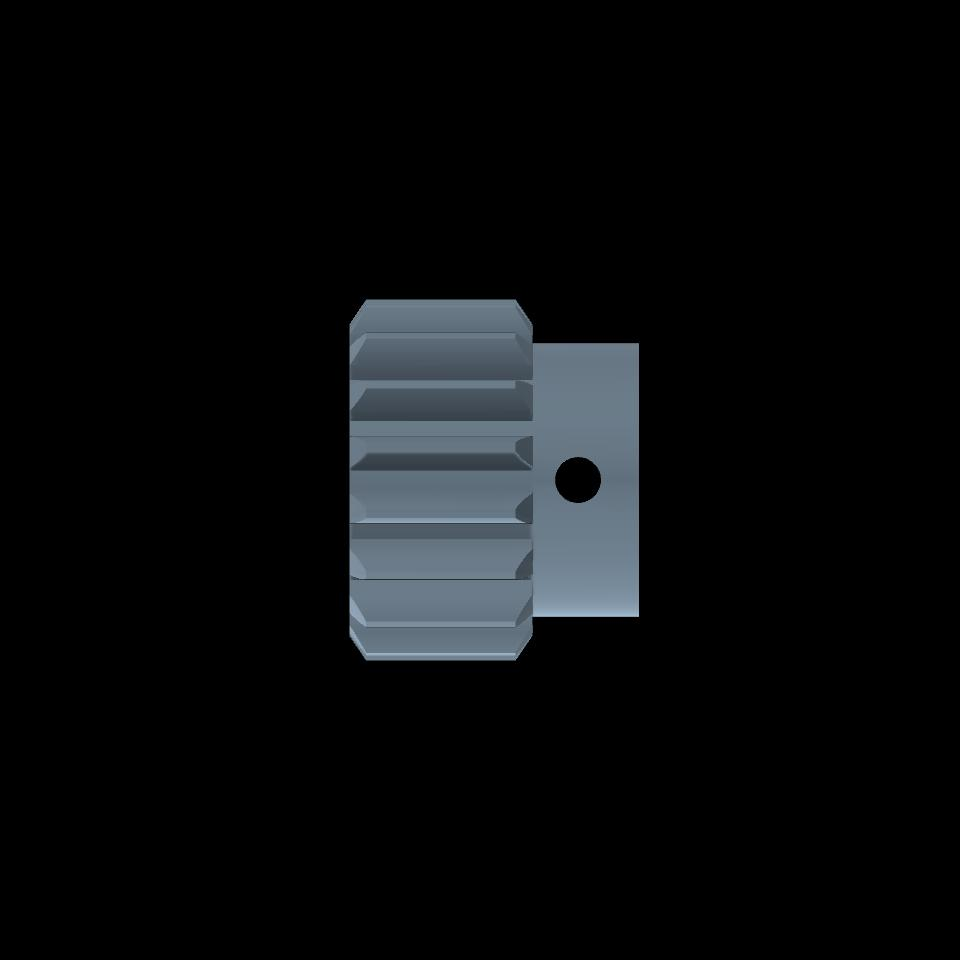Straight: (367, 300, 518, 660)
